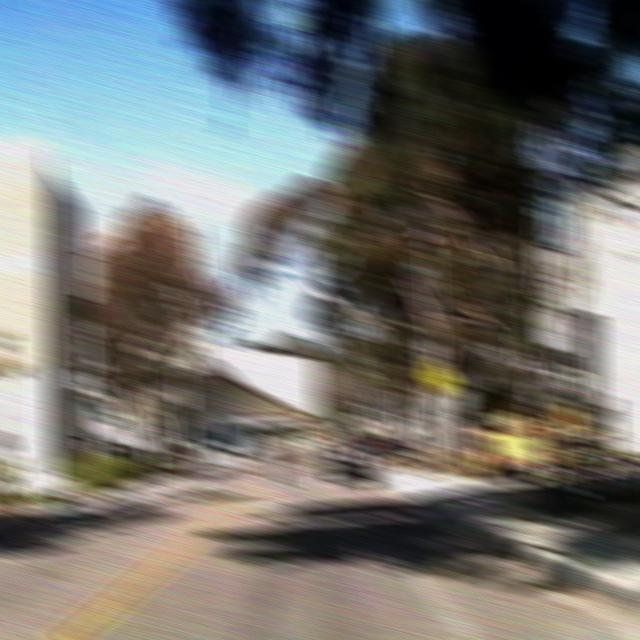pedestrianCrossing: (419, 355, 456, 396)
